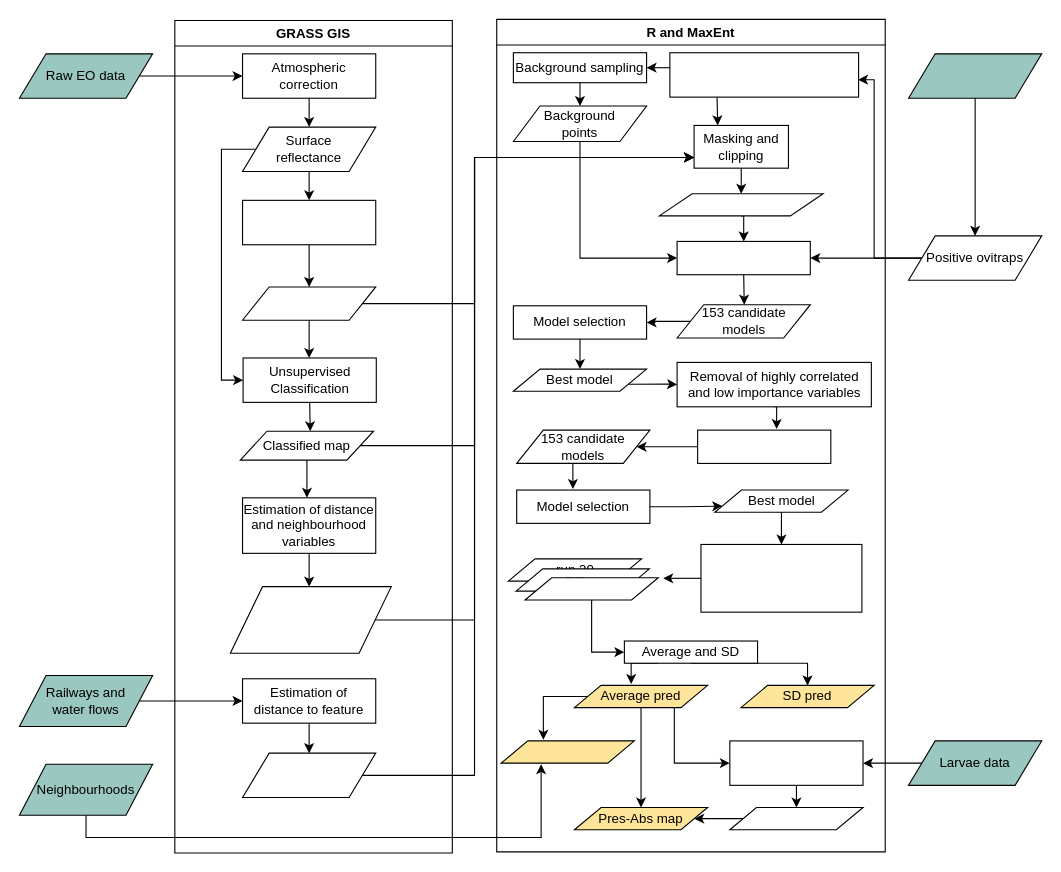
The diagram is 1061 pixels wide and 872 high, and some of its shapes have lost their labels. The shapes that lost their labels are listed below. From the top down, each one's centre as x and y in pixels, then its label:
At [764,74]: "Accessible area (M): 800 m buffer around positive records".
At [974,75]: "Ovitraps data".
At [308,222]: "Estimation of spectral indices and textures".
At [740,204]: "Clipped raster data".
At [743,257]: "Calibration with all variables".
At [308,303]: "NDVI, NDWI, Textures".
At [764,446]: "Calibration with selected variables".
At [591,588]: "run 1".
At [781,577]: "Run 30 replicates with bootstrapping and project to full extent of study area".
At [310,619]: "distance to class, dominant class, # of classes, diversity, etc.".
At [567,751]: "Aggregated map".
At [796,762]: "Threshold dependent validation".
At [308,775]: "Distance to LC classes".
At [796,818]: "Best threshold".
